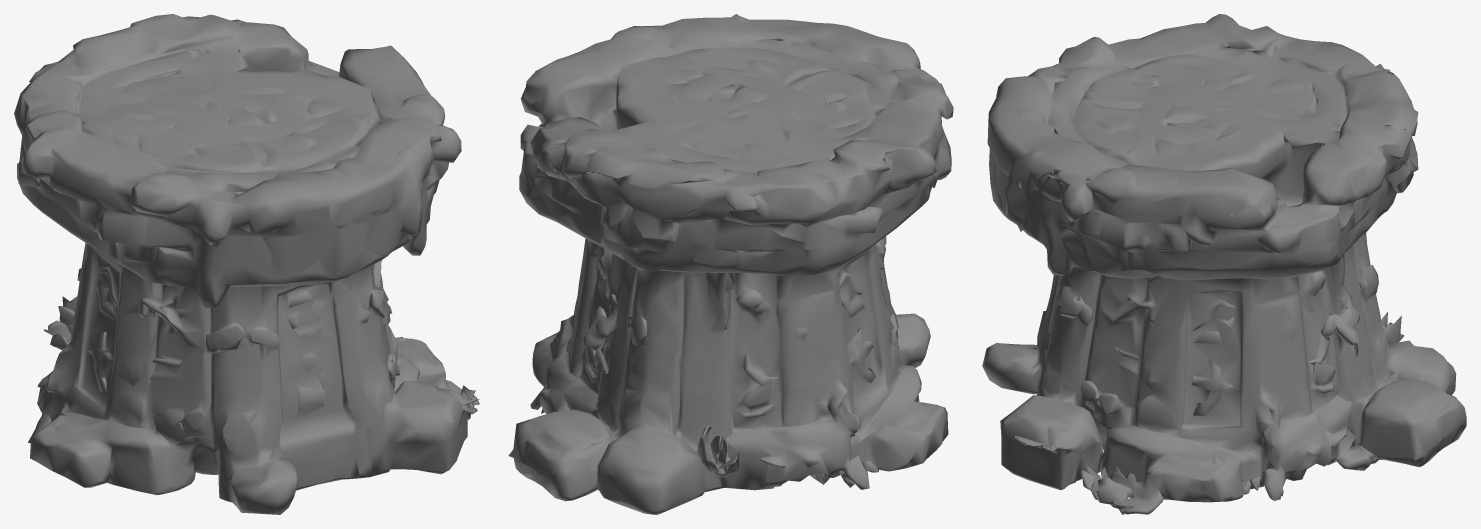
File: prop_ruined_altar_model.glb
3 renders of one model, left to right at view 1: azimuth 30°, elevation 25°; view 2: azimuth 150°, elevation 25°; view 3: azimuth 270°, elevation 25°, orthographic. The views are drawn at different scales.
Visible parts, largest first — view 1: tripo_node_c8f75229-87b0-4ed5-a110-1b784b2f2227; view 2: tripo_node_c8f75229-87b0-4ed5-a110-1b784b2f2227; view 3: tripo_node_c8f75229-87b0-4ed5-a110-1b784b2f2227.
Part boxes in pixels (bbox=[...]): tripo_node_c8f75229-87b0-4ed5-a110-1b784b2f2227: bbox=[14, 14, 479, 514]; tripo_node_c8f75229-87b0-4ed5-a110-1b784b2f2227: bbox=[508, 14, 953, 514]; tripo_node_c8f75229-87b0-4ed5-a110-1b784b2f2227: bbox=[982, 14, 1466, 514].
Size of the model in its own units: 0.9467 by 0.7374 by 1.
1 material, 1 textured.
